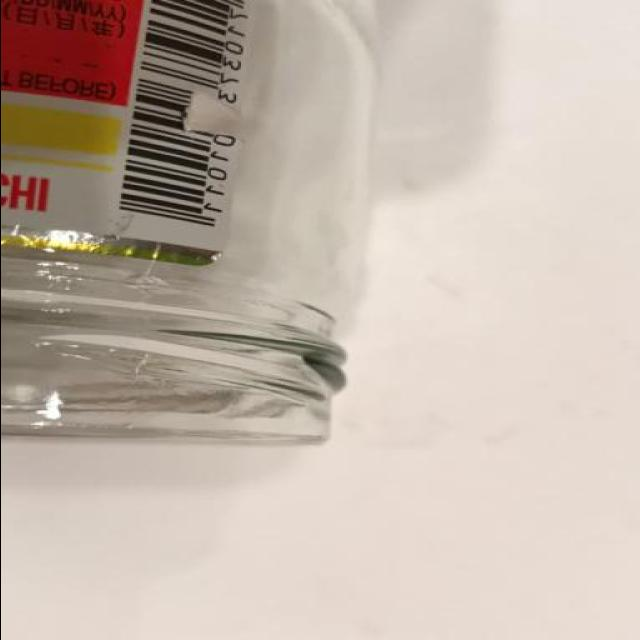glass: (0, 0, 399, 462)
